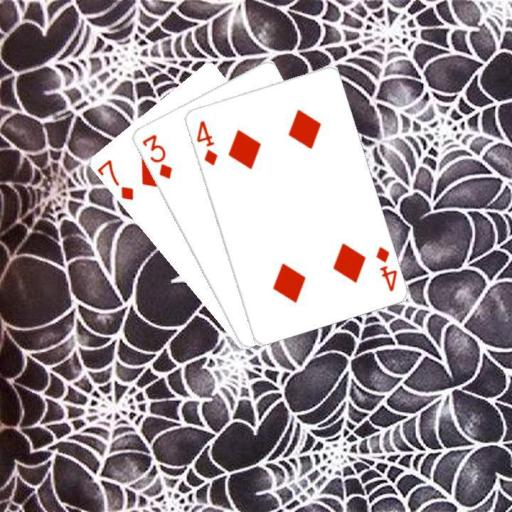3D: (138, 131, 173, 181)
4D: (193, 117, 219, 167), (372, 243, 397, 293)
7D: (95, 156, 135, 202)
